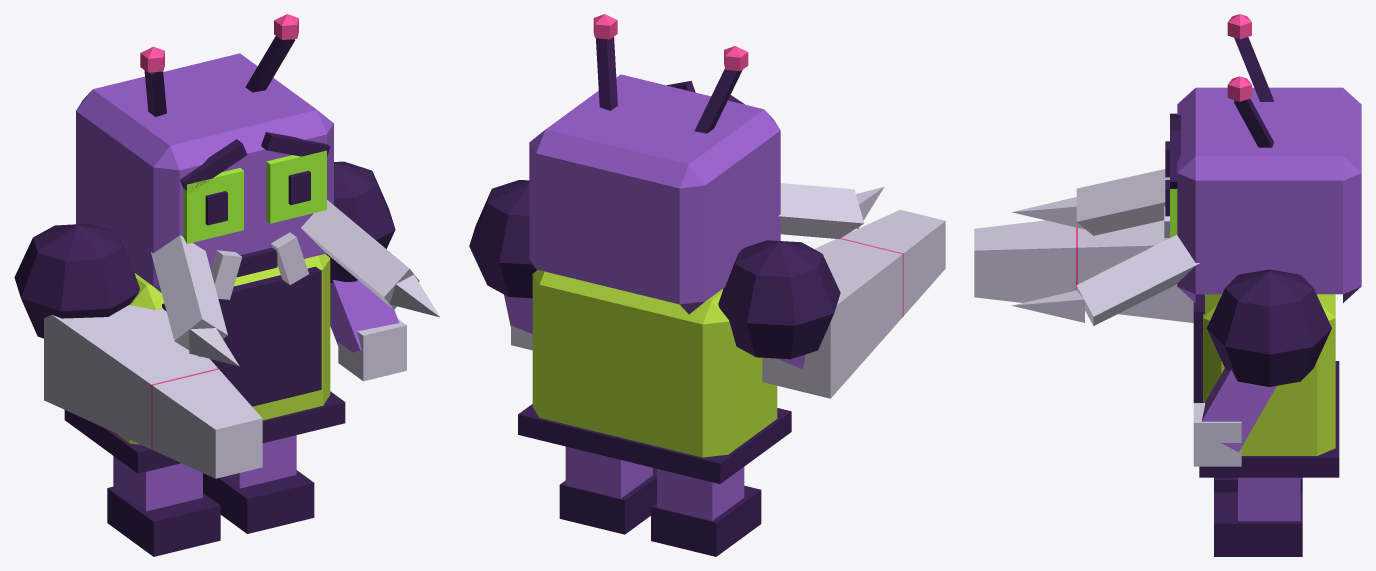
The model's file is breacher_r11.glb.
3 views of the same model, side by side, from view 1: azimuth 30°, elevation 25°; view 2: azimuth 150°, elevation 25°; view 3: azimuth 270°, elevation 25° (orthographic). The views are drawn at different scales.
Parts seen in each view (by area): view 1: breacher_r11_mesh; view 2: breacher_r11_mesh; view 3: breacher_r11_mesh.
Part boxes in pixels (x1,y1,x2,y2): breacher_r11_mesh: (14, 14, 440, 556); breacher_r11_mesh: (469, 14, 945, 556); breacher_r11_mesh: (974, 14, 1361, 556).
Size of the model in its own units: 1.55 by 2 by 1.48.
1 material, 1 textured.
